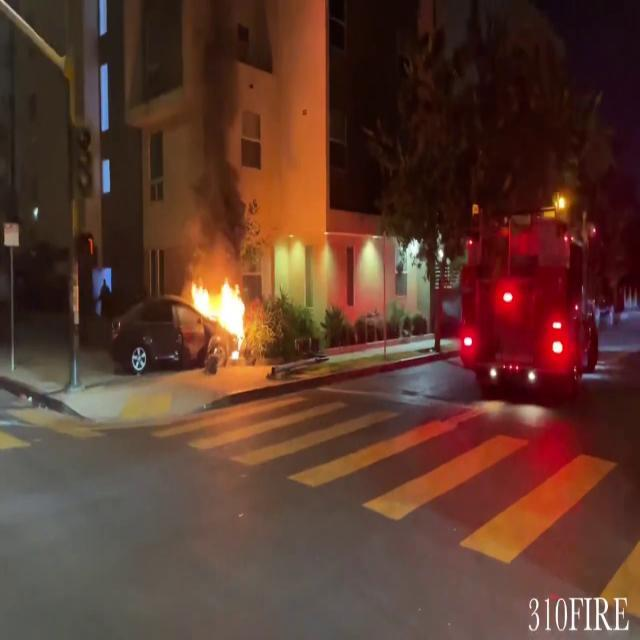Fire: (186, 267, 254, 356)
Smoke: (162, 1, 256, 254)
